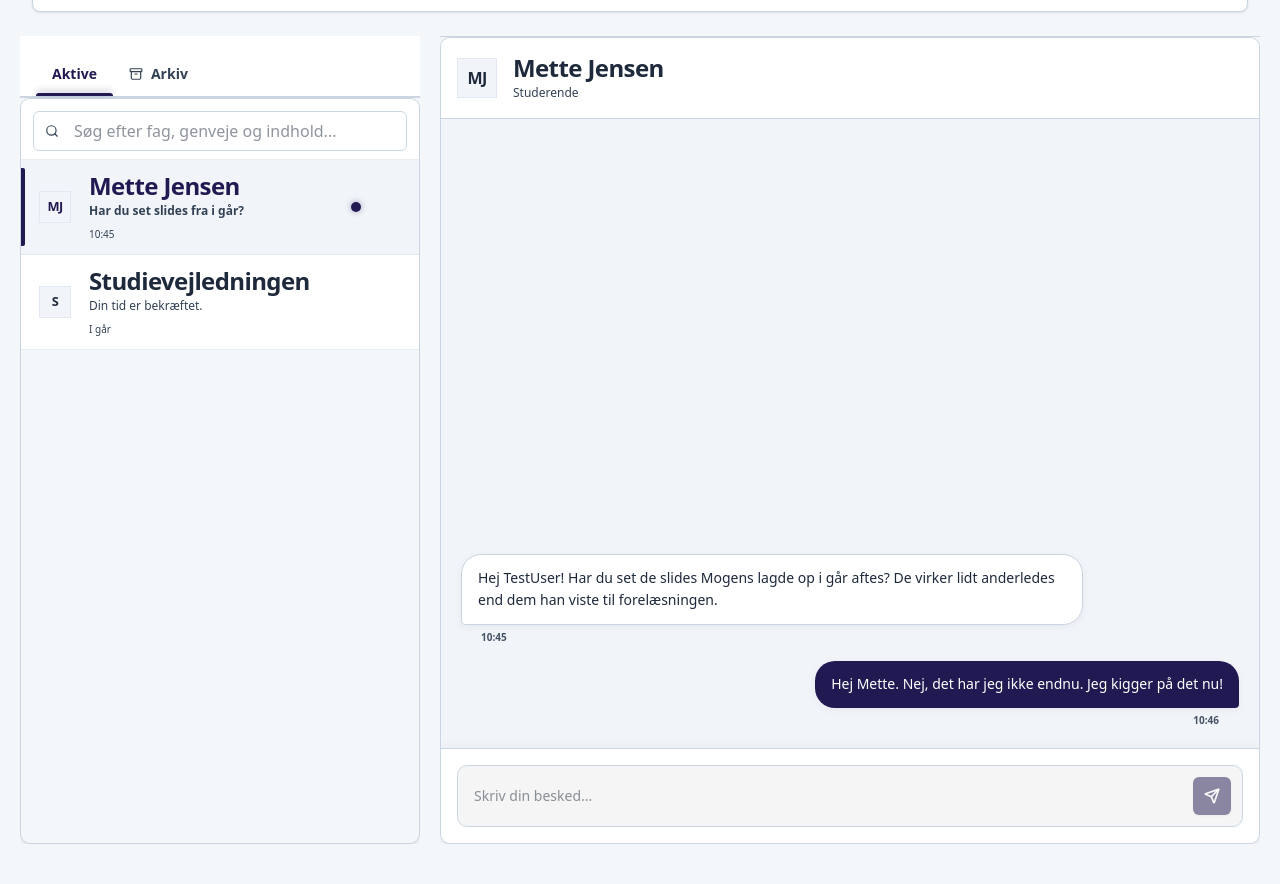
Test: Messages Page › sends a message via the input field
(page scrolled)
Type "Test besked" into the text box with placeholder "Skriv din besked..." at (824, 796), box [466,774,1181,818]
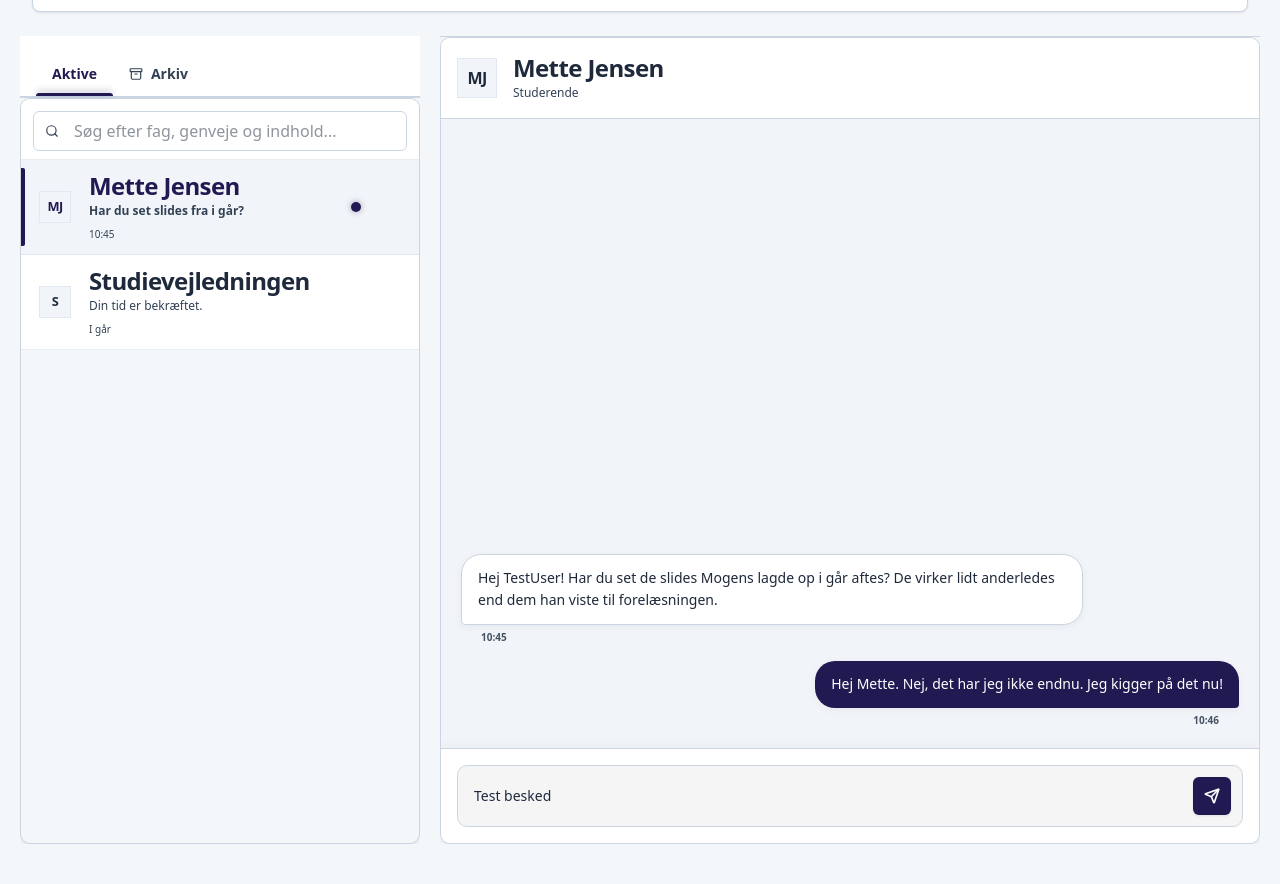
Click the button named "Send besked" at (1212, 796), box [1193,777,1231,815]
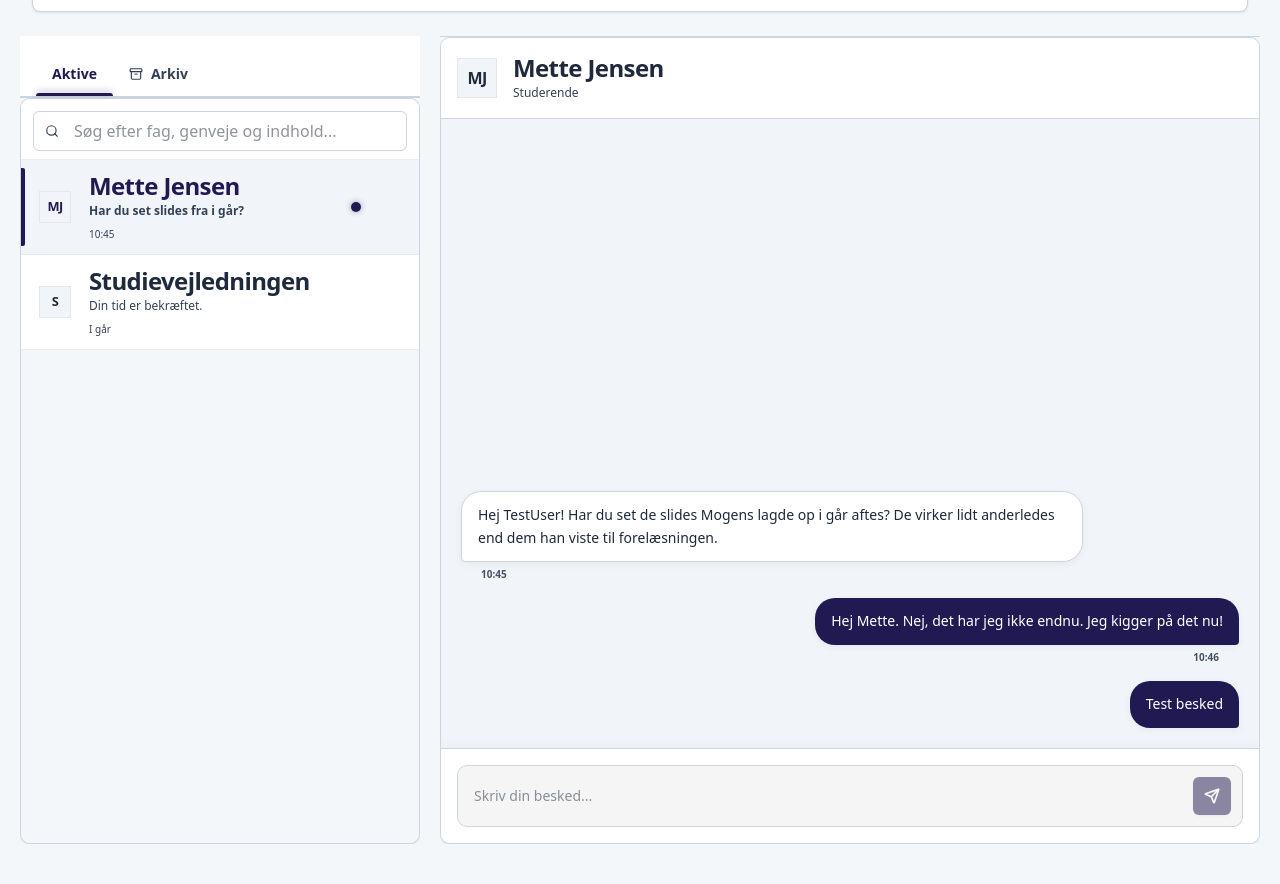
Expected: the text "Test besked" is shown, [1146,693,1223,716]
